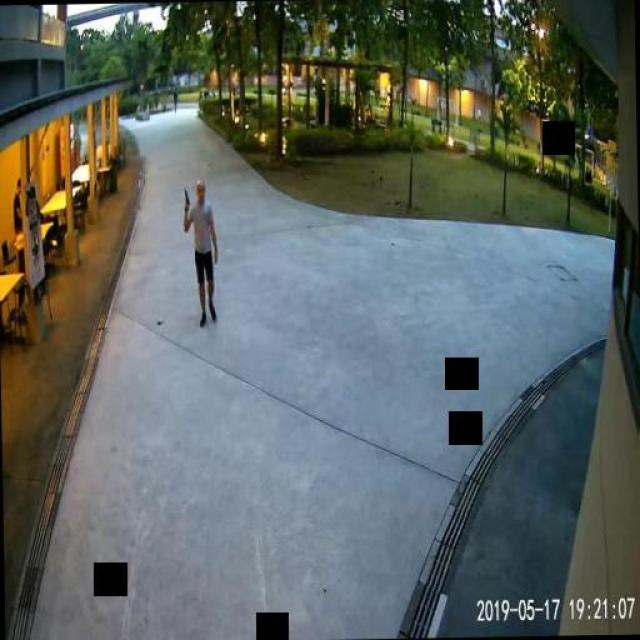gun: (182, 185, 190, 211)
